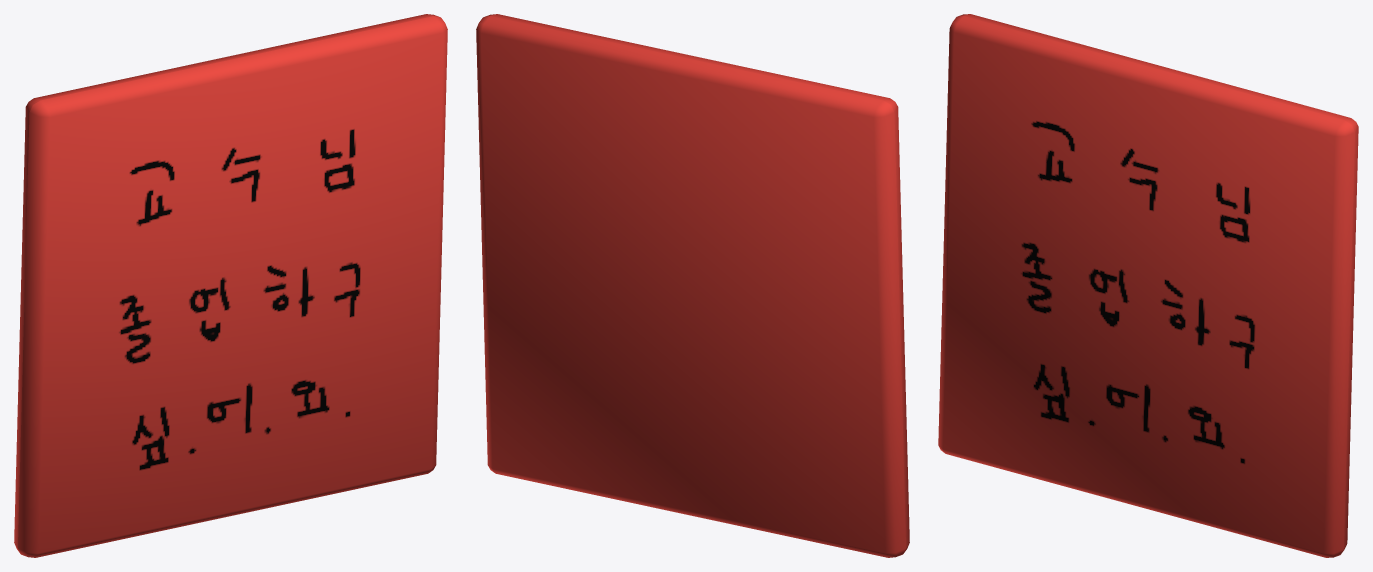
The model's file is IwannagoHomeMemo.glb.
3 renders of one model, left to right at view 1: azimuth 30°, elevation 25°; view 2: azimuth 150°, elevation 25°; view 3: azimuth 330°, elevation 25°, orthographic. The views are drawn at different scales.
Visible parts, largest first — view 1: IwannagoHome; view 2: IwannagoHome; view 3: IwannagoHome.
Boxes of the visible parts, box(x1,y1,x2,y2) form: IwannagoHome: box(14, 14, 447, 557); IwannagoHome: box(476, 14, 909, 557); IwannagoHome: box(938, 14, 1358, 557).
Size of the model in its own units: 0.881 by 0.9162 by 0.0702.
Materials: 1 (1 with a texture image).
